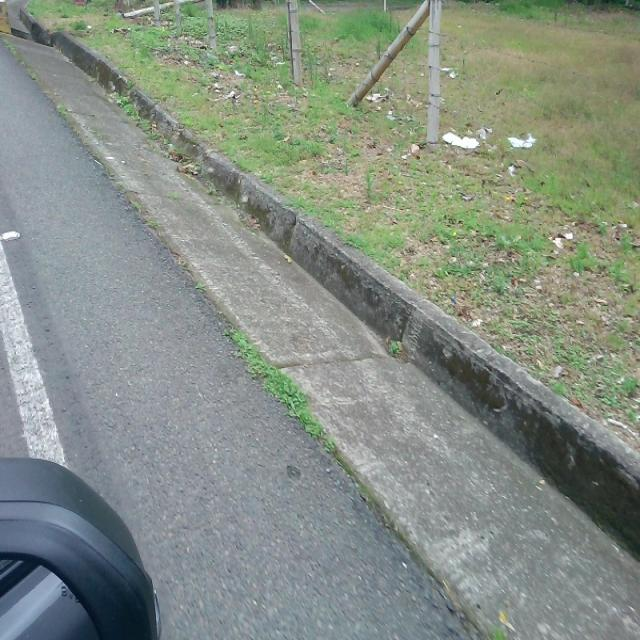DITCH: (2, 2, 638, 637), (1, 3, 638, 637), (40, 28, 634, 638)
